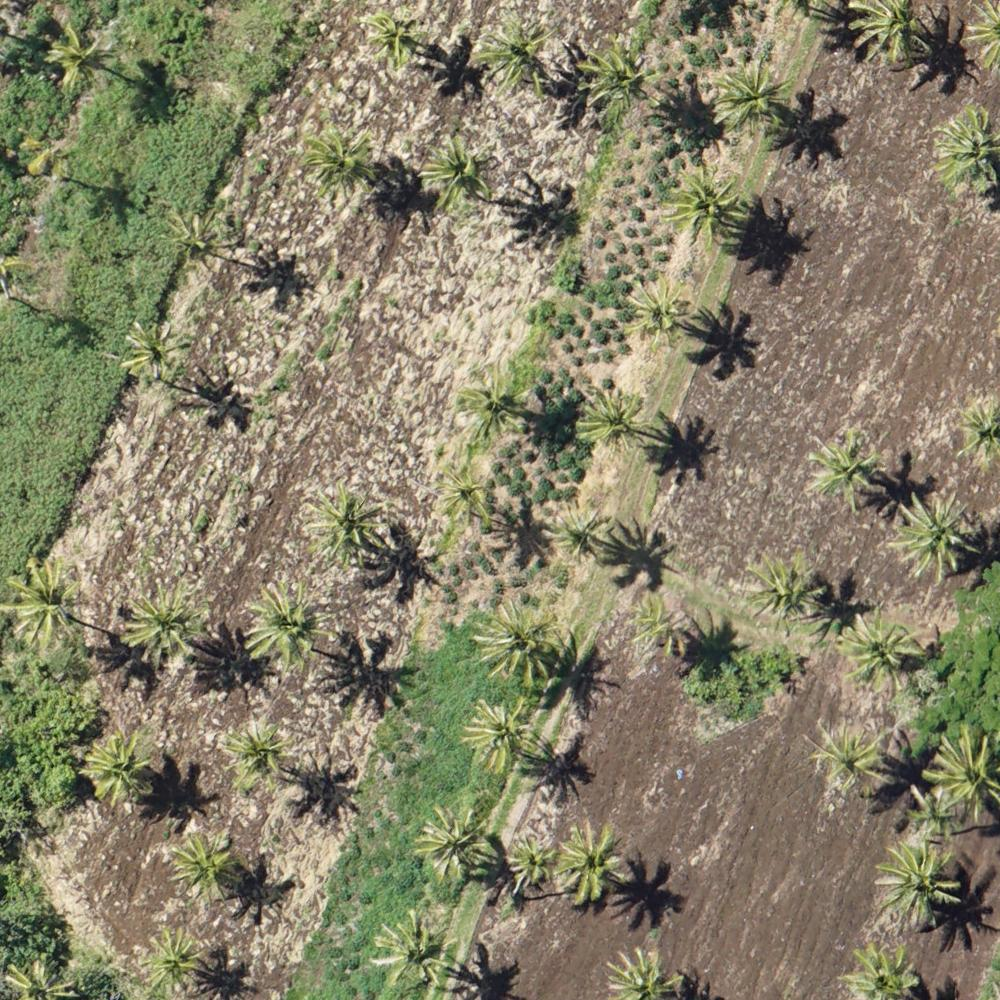Palm: (888, 493, 984, 579), (1, 558, 86, 655), (474, 602, 561, 691), (243, 582, 329, 671), (875, 840, 963, 924), (839, 608, 924, 691), (121, 581, 202, 666), (804, 713, 889, 792), (299, 488, 382, 567), (926, 731, 1000, 819), (928, 106, 1000, 195), (804, 429, 886, 505), (369, 910, 448, 986), (299, 122, 379, 197), (417, 800, 489, 883), (742, 547, 818, 625), (847, 1, 931, 68), (558, 821, 625, 905), (476, 15, 550, 91), (423, 135, 500, 208), (462, 697, 537, 769), (666, 171, 742, 242), (39, 22, 112, 89), (169, 828, 235, 902), (461, 371, 529, 442), (139, 926, 207, 997), (574, 386, 647, 451), (84, 733, 155, 799), (582, 40, 647, 112), (162, 207, 230, 273), (717, 63, 785, 127), (119, 321, 188, 383), (433, 466, 497, 530), (629, 277, 689, 344), (547, 501, 613, 561), (217, 722, 282, 782), (361, 9, 425, 68), (632, 591, 695, 648), (504, 835, 555, 886)
